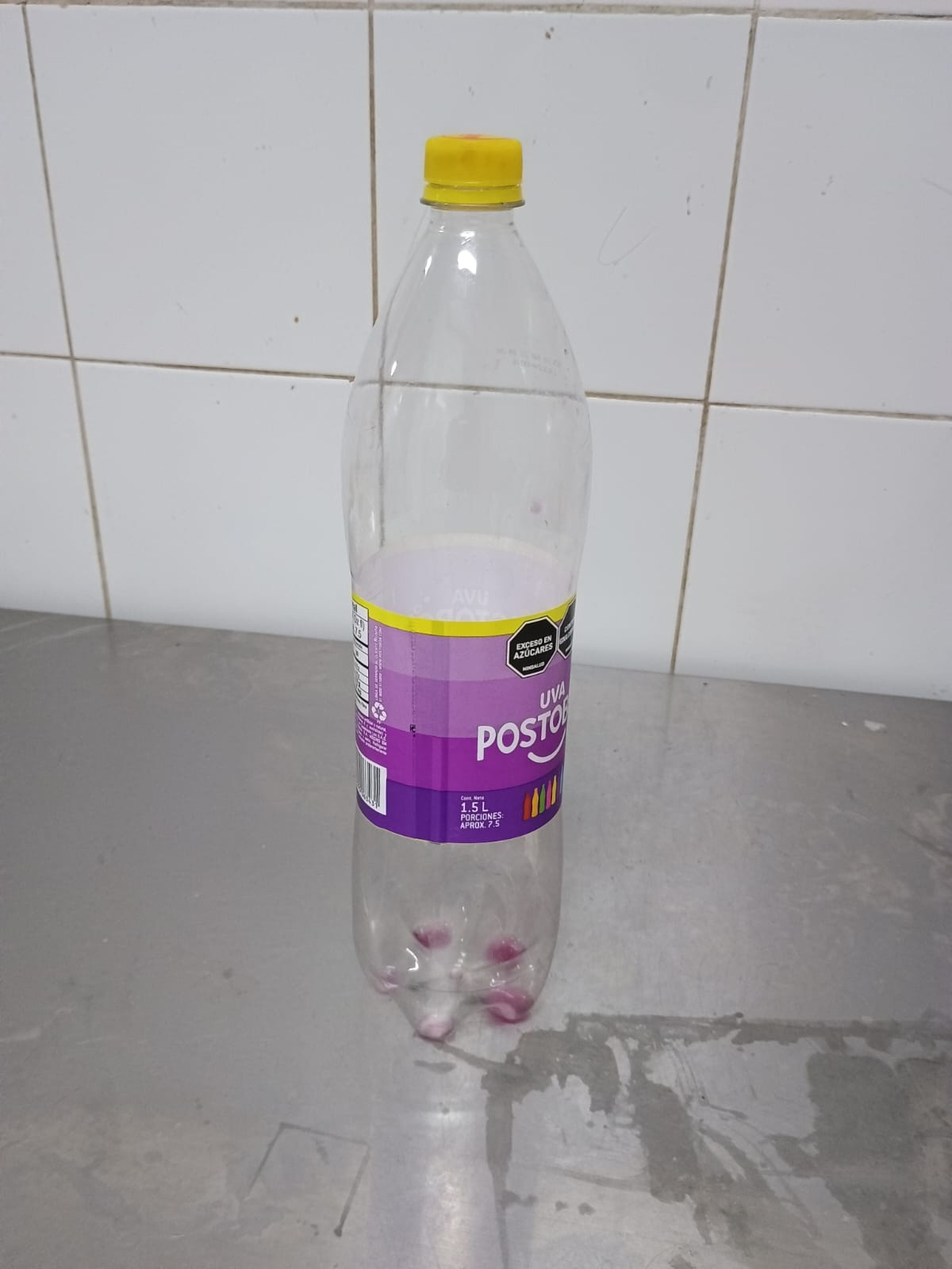Plastico: (345, 135, 593, 1039)
